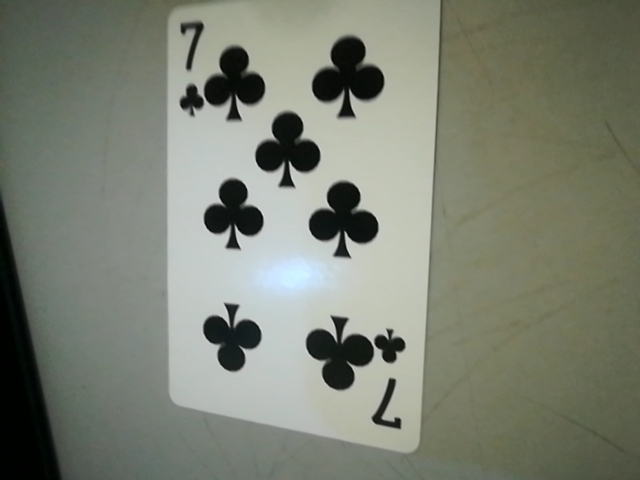mh 7: (364, 324, 420, 441)
